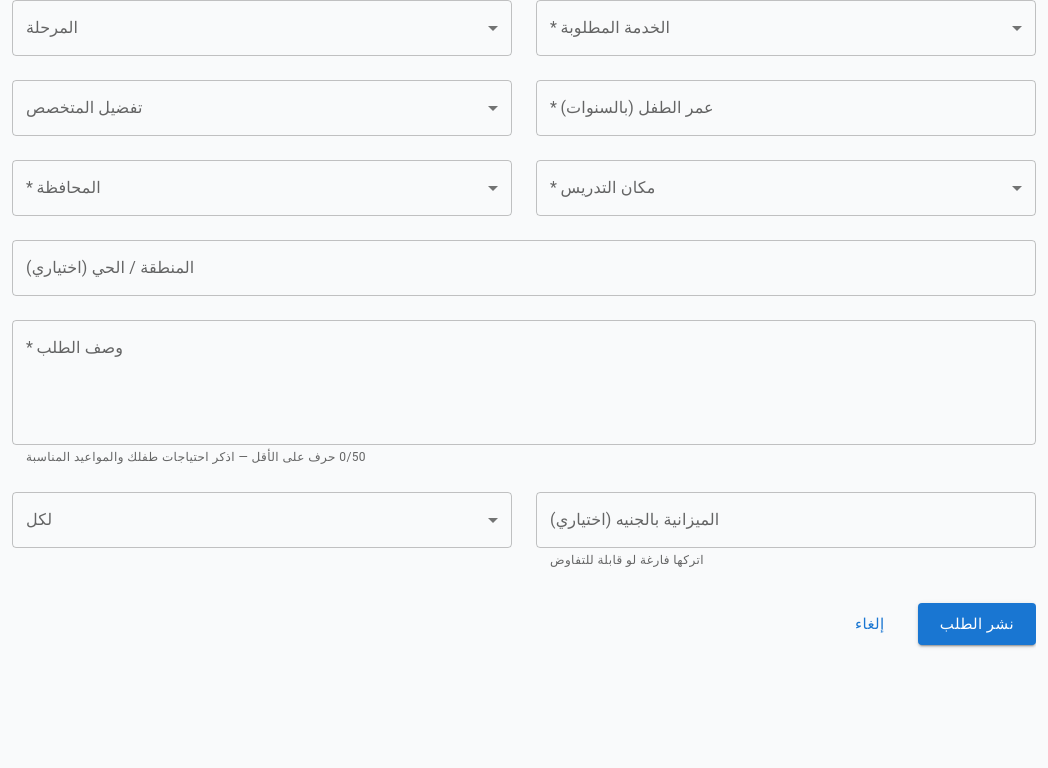
Test: RequestForm › shows what is missing and saves nothing
This screenshot has width=1048, height=768.
Click the button "نشر الطلب" at (977, 624), box [918,603,1036,645]
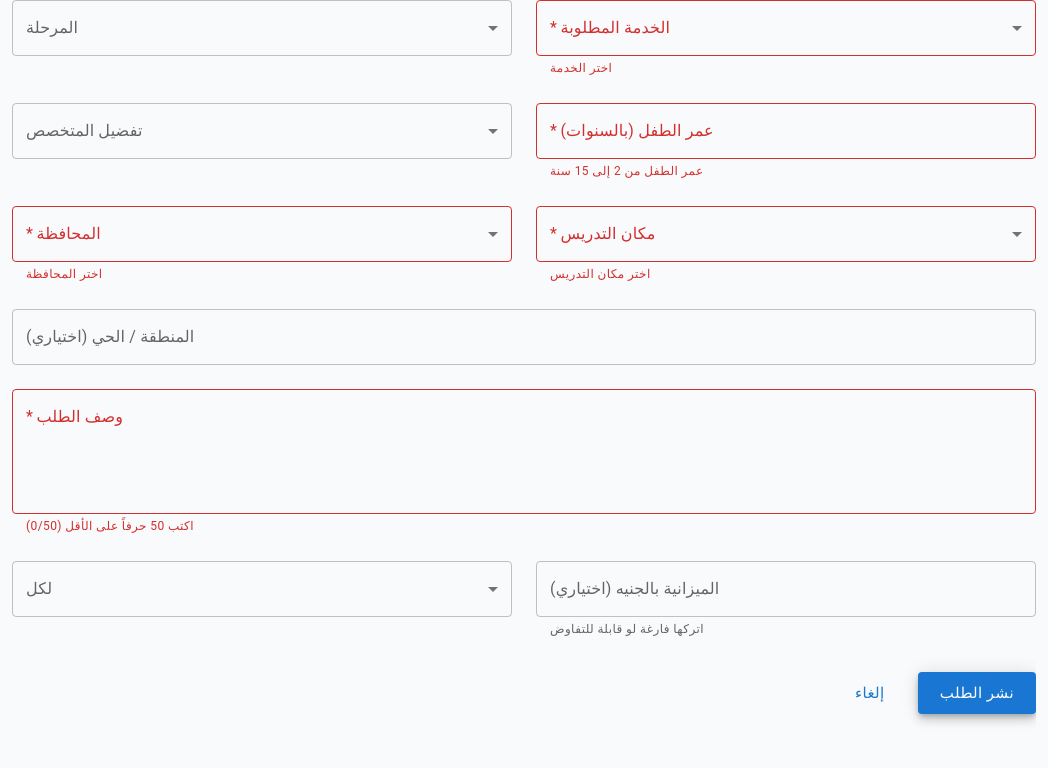
Check: the text "اختر الخدمة" is shown, box [550,61,612,75]
Check: the text "عمر الطفل من 2 إلى 15 سنة" is shown, box [550,164,704,178]
